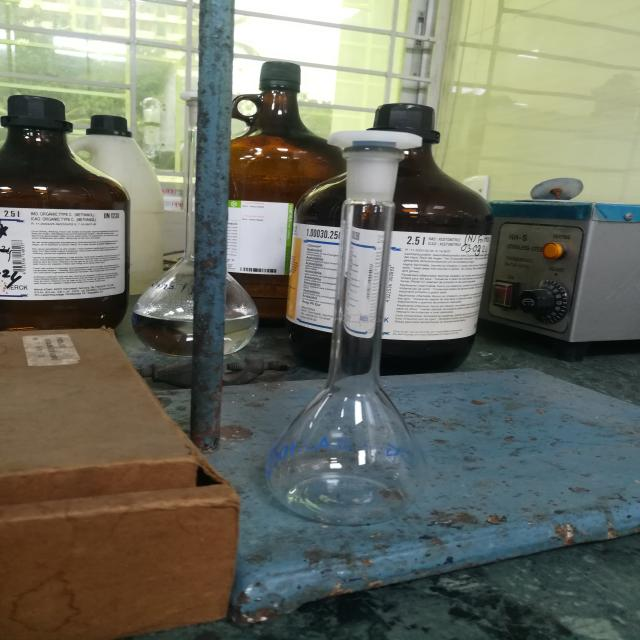Volumetric_Flask: (250, 105, 468, 529)
